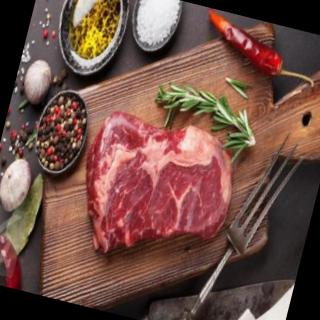Daging Sapi: (67, 106, 245, 278)
